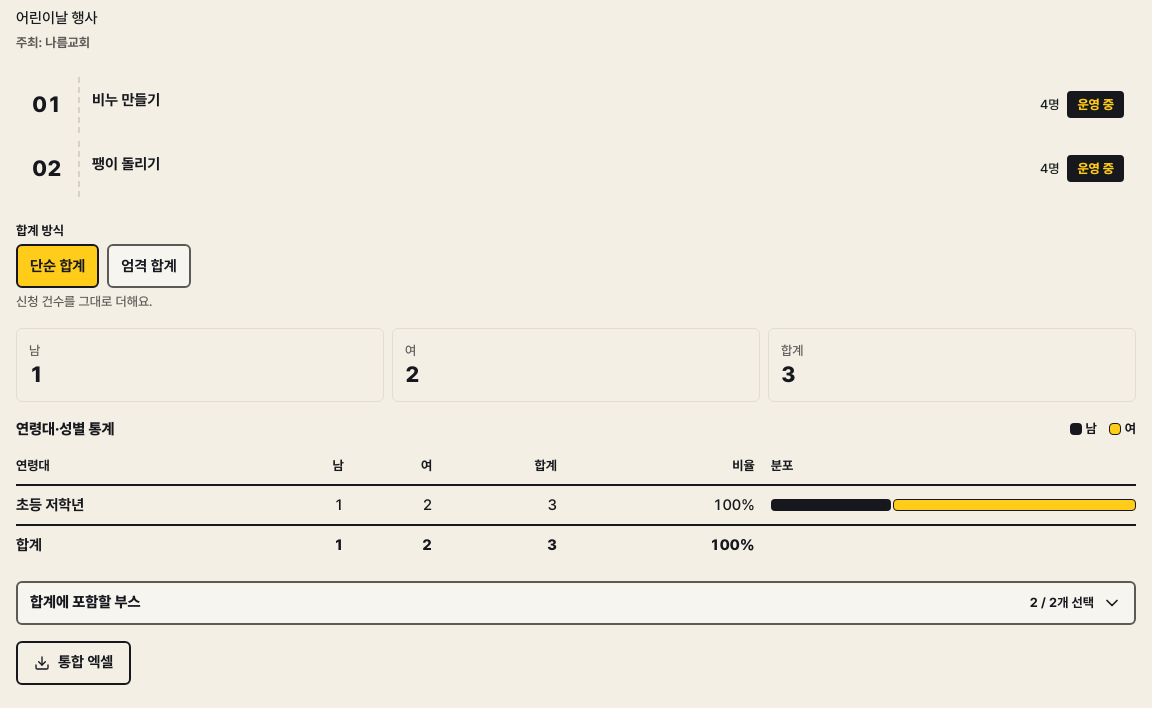
Scenario: StatsPanel › 엑셀 실패 안내를 보여준다
(page scrolled)
Click the button "통합 엑셀".
click(74, 663)  # box [16,641,131,685]
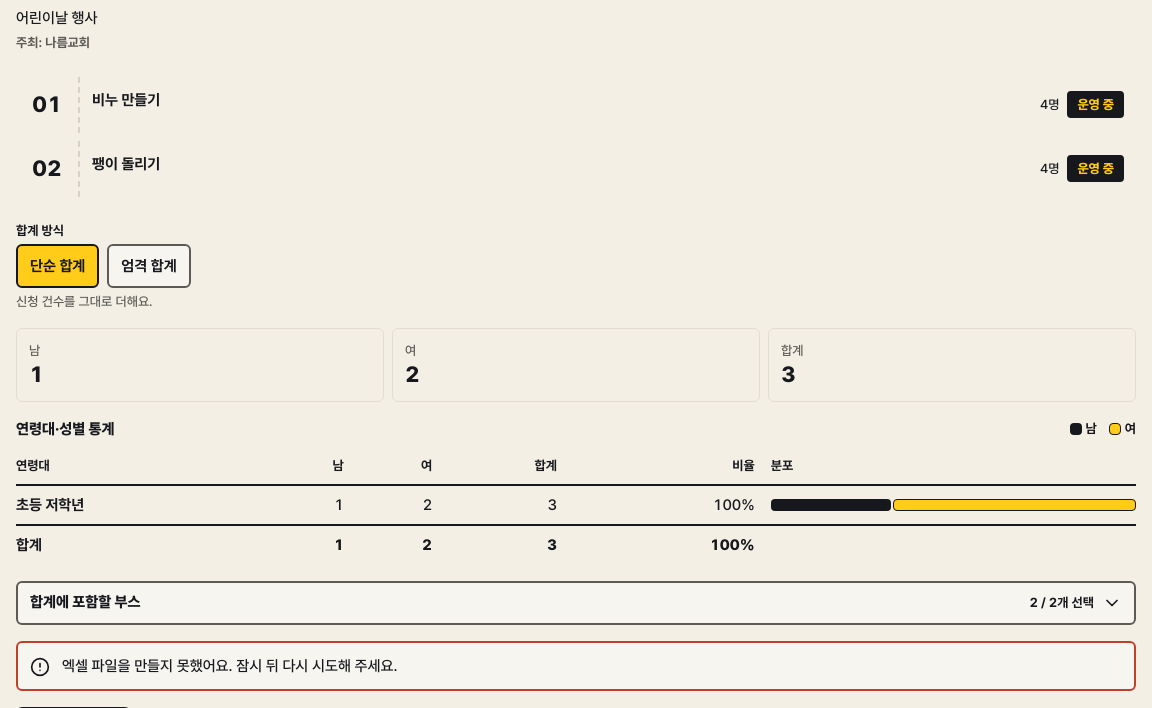
Expected: the text "엑셀 파일을 만들지 못했어요. 잠시 뒤 다시 시도해 주세요." is shown, [62,657,397,675]
